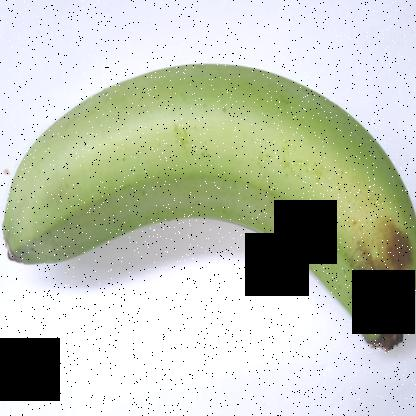freshunripe: (1, 38, 415, 366)
